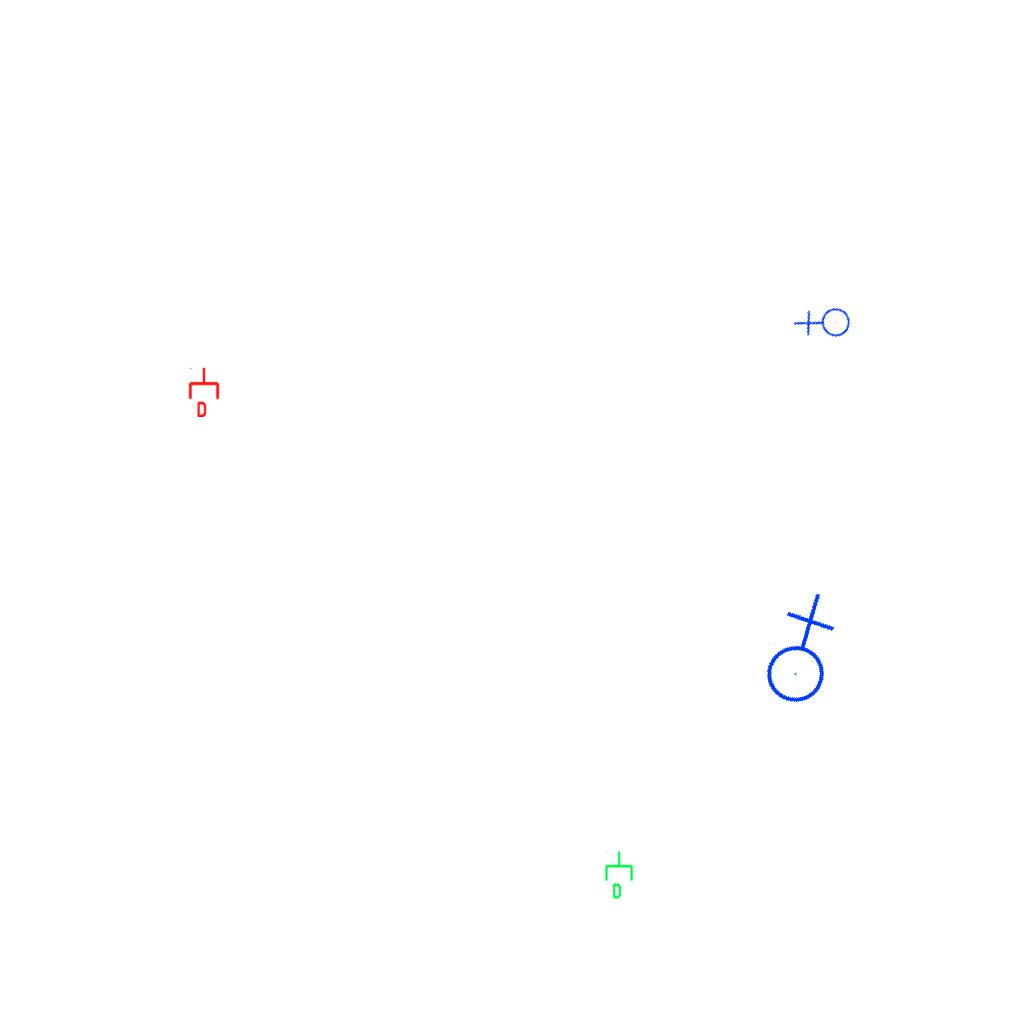Datenanschluss_einfach: (187, 367, 221, 417), (603, 850, 637, 900)
Elektroanschluss_allgemein_230V_Geraeteanschlussdose_230V: (731, 587, 864, 719), (791, 290, 860, 359)
